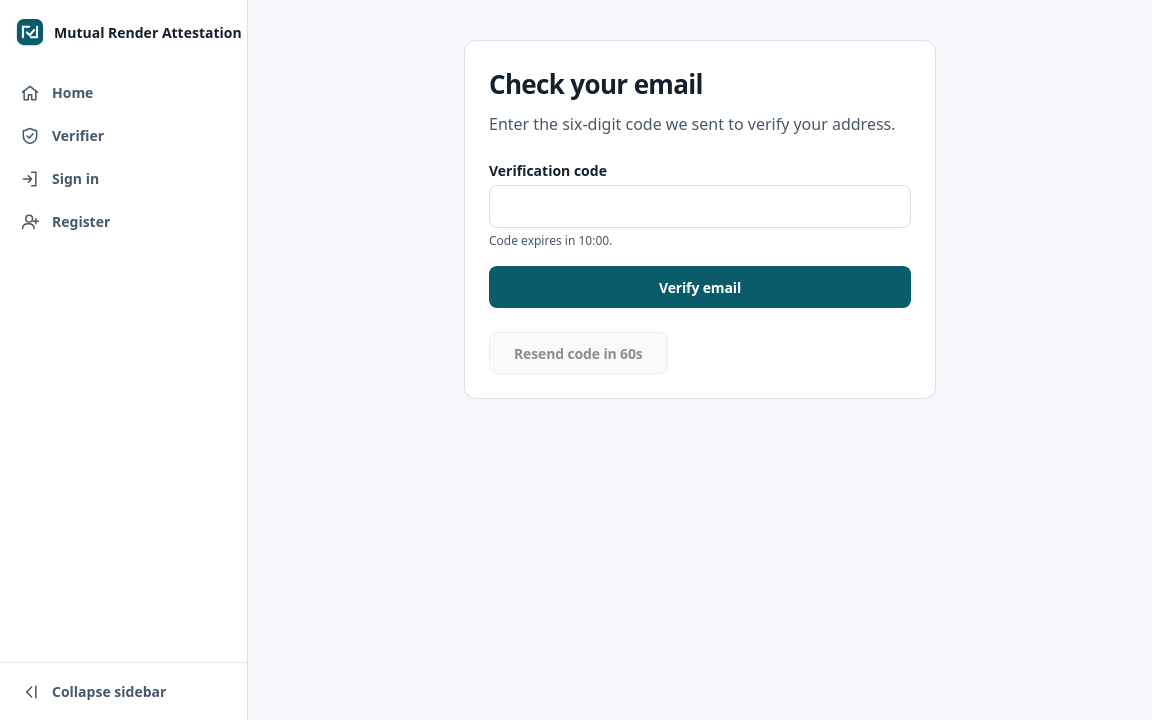
it: VerifyEmail page › uses one generic message for any rejected code
The width and height of the screenshot is (1152, 720).
In the field labelled "Verification code": (700, 206) [489,185,911,228], type "123456"
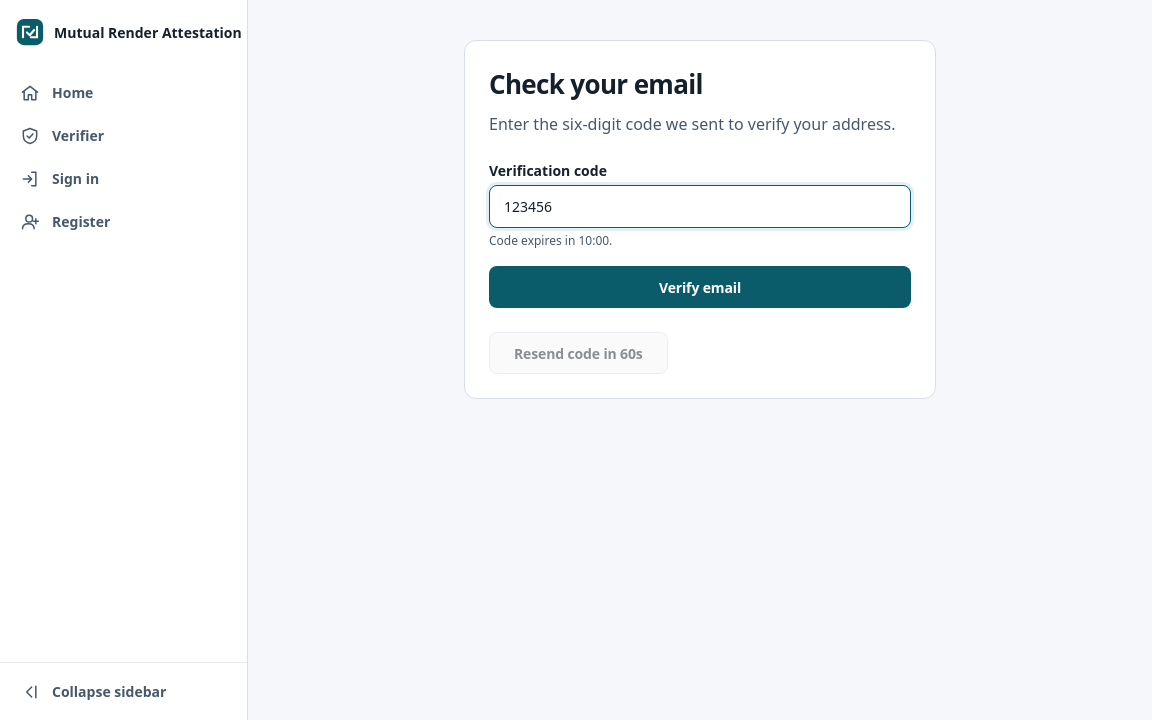
Click the button "Verify email": (700, 287) [489,266,911,308]
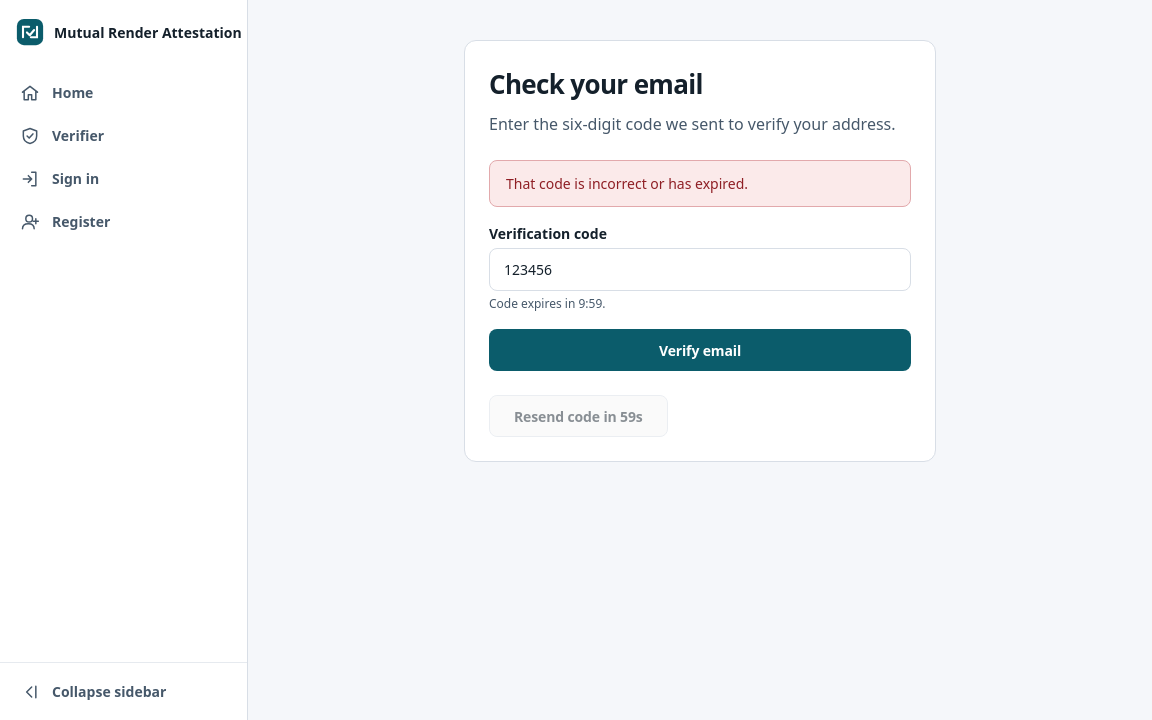
Result: the message reads "That code is incorrect or has expired." at [506,174,748,193]
